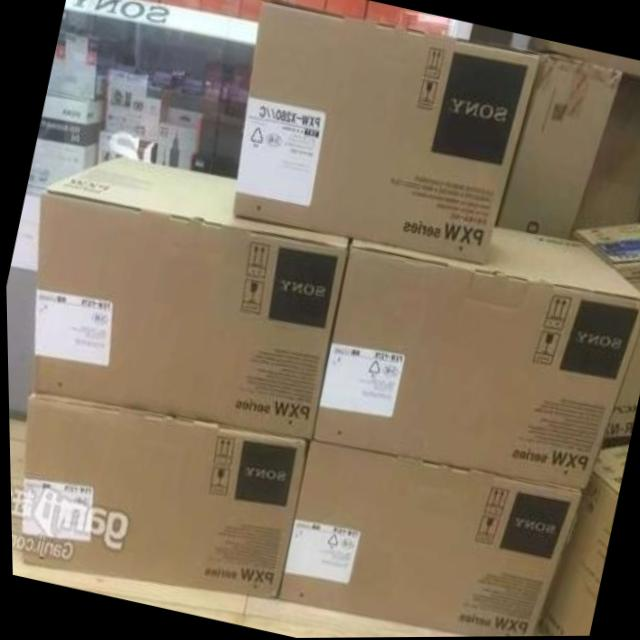box: (30, 157, 347, 438), (309, 225, 640, 489), (232, 0, 537, 262), (276, 439, 577, 637), (21, 393, 305, 598), (493, 52, 640, 237), (535, 442, 627, 637), (597, 327, 640, 453), (573, 223, 640, 293)
